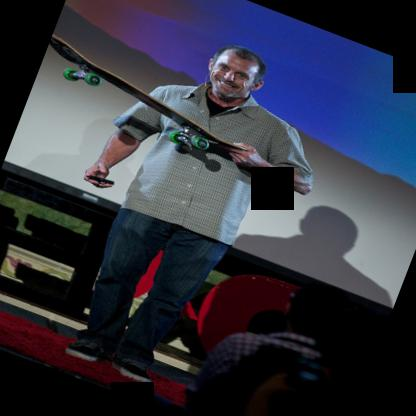backpack: (184, 343, 365, 416)
